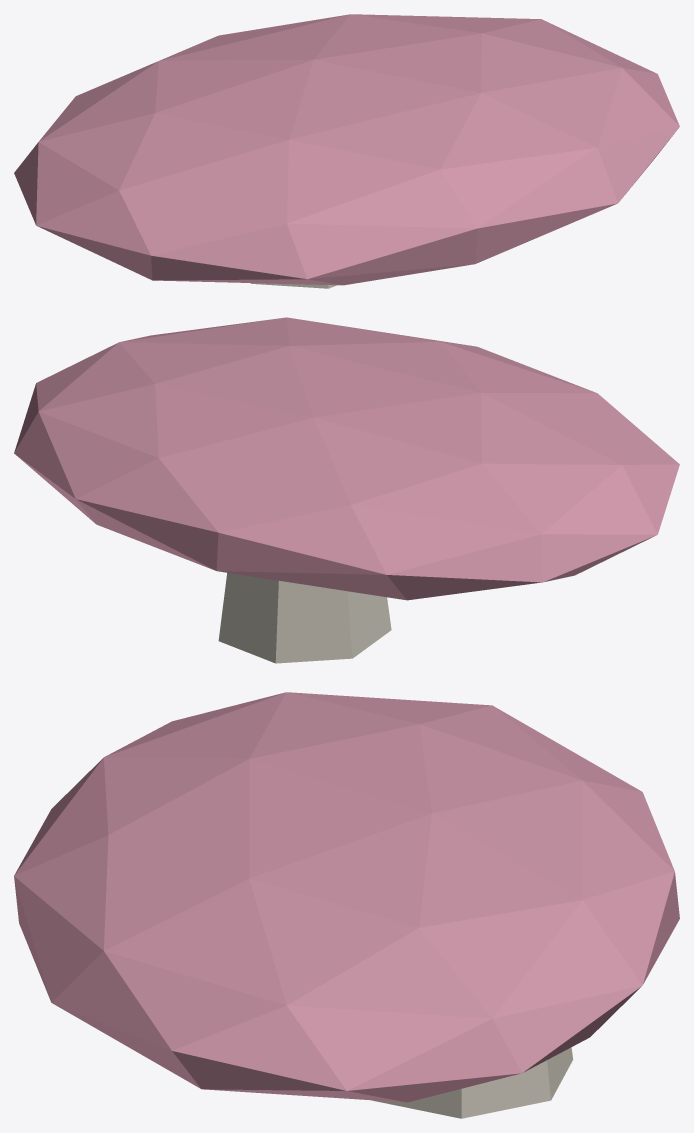
File: fuscoporia-gilva.glb
3 renders of one model, top to bottom at view 1: azimuth 30°, elevation 25°; view 2: azimuth 150°, elevation 25°; view 3: azimuth 270°, elevation 25°, orthographic. The views are drawn at different scales.
Visible parts, largest first — view 1: shelf; view 2: shelf, stalk; view 3: shelf, stalk.
Boxes of the visible parts, left/top/right/bottom form: shelf: left=14, top=14, right=679, bottom=285; shelf: left=14, top=317, right=679, bottom=600; stalk: left=218, top=573, right=391, bottom=663; shelf: left=14, top=692, right=679, bottom=1102; stalk: left=372, top=1047, right=573, bottom=1118.
Bounding box in the file's own units: 0.48 × 0.1484 × 0.3488.
